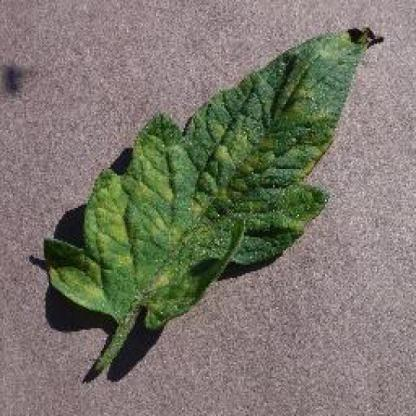Tomato_Leaf_Mold: (45, 26, 377, 327)
